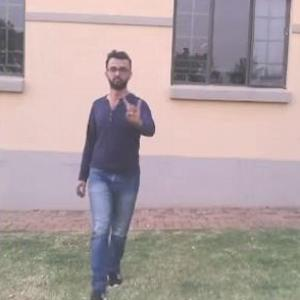takeoff-hand: (117, 93, 149, 124)
